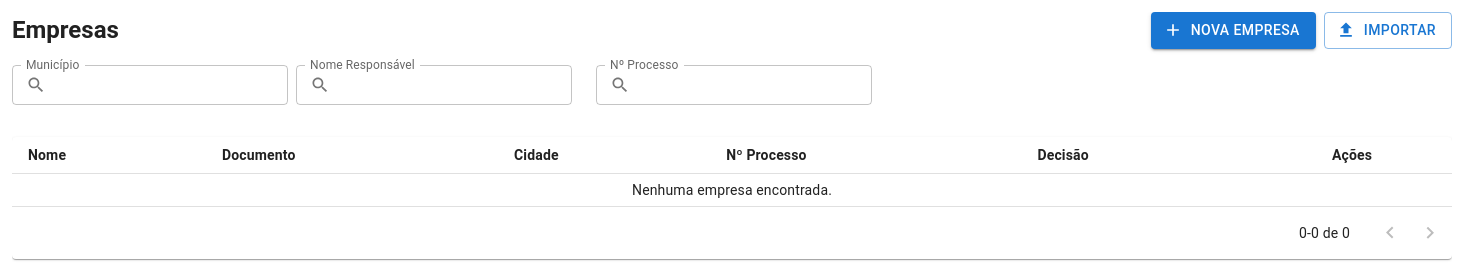
Test case: EmpresaLista › limpa filtros ao clicar em Limpar filtros
Type "João" into the field labelled "Nome Responsável".
click(455, 84); type("João")  # box left=338, top=64, right=572, bottom=104
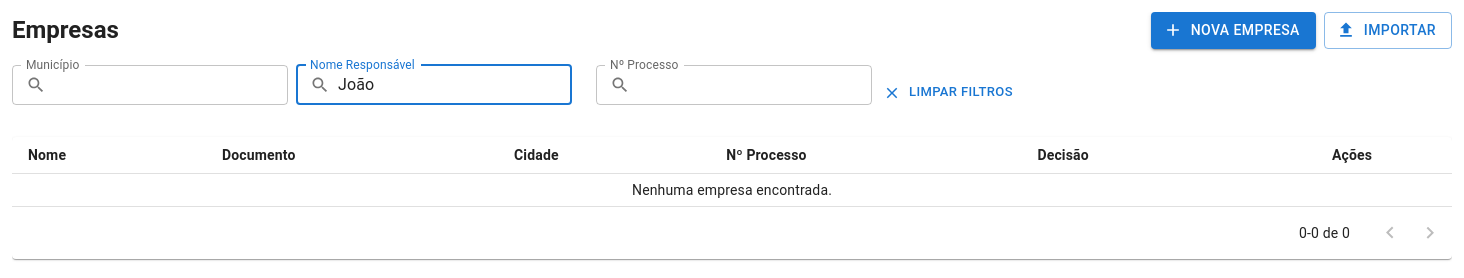
expect the button "Limpar filtros" is shown: met
Click the button "Limpar filtros".
click(949, 92)  # box left=880, top=77, right=1018, bottom=108
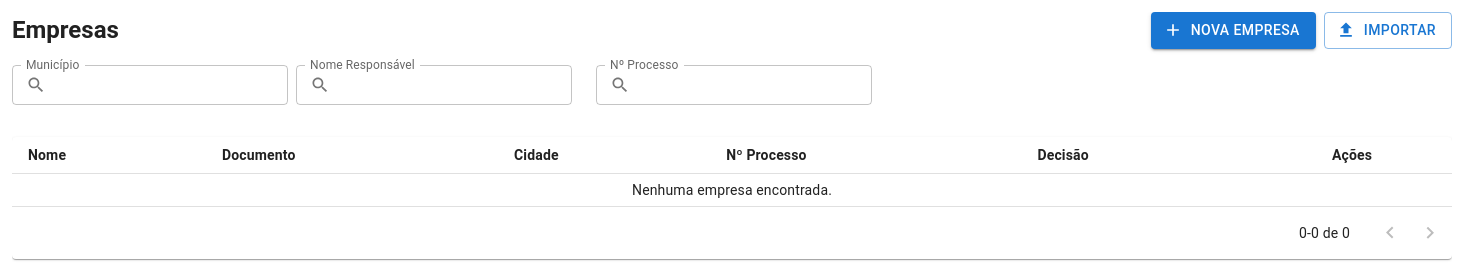
expect the field labelled "Nome Responsável" is empty: met, box left=338, top=64, right=572, bottom=104
